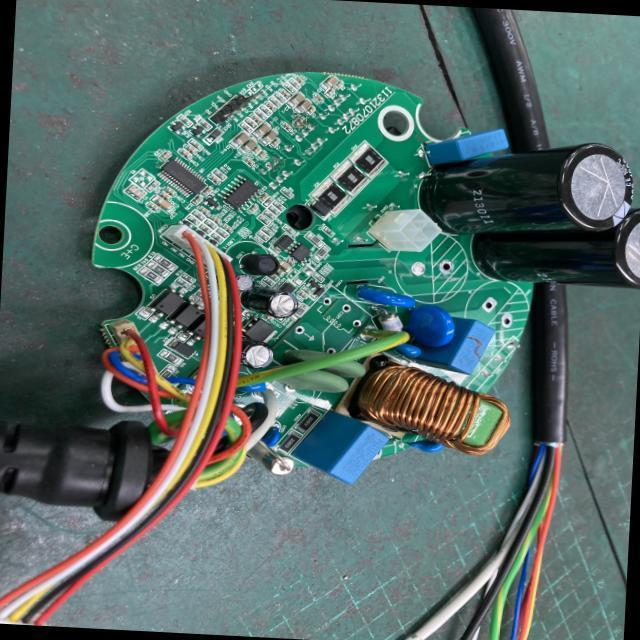damged: (292, 114, 306, 128)
